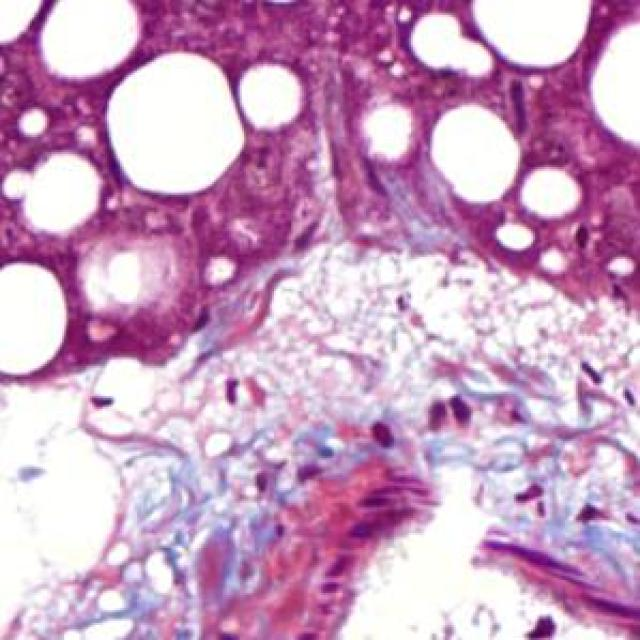steatosis: (109, 47, 246, 201), (419, 100, 526, 206), (231, 62, 315, 129)
